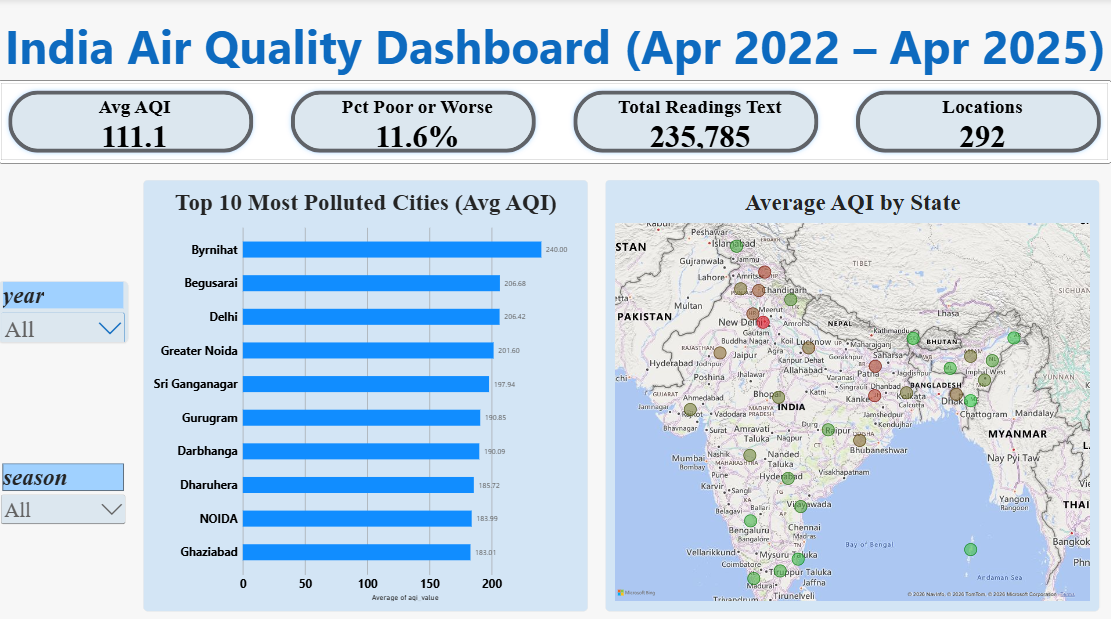

The dashboard page shown, as its layout file describes it:
{"tool":"powerbi","page":{"name":"Overview","canvas":[1920,1080],"ordinal":0},"visuals":[{"type":"cardVisual","fields":{"Data":["aqi.Avg AQI","aqi.Pct Poor or Worse","aqi.Total Readings Text","aqi.Locations"]},"box":[0,143.2,1920,143.2],"z":0},{"type":"slicer","fields":{"Values":["aqi.year"]},"box":[0,487.7,224.5,104.5],"z":1000},{"type":"slicer","fields":{"Values":["aqi.season"]},"box":[0,801.3,224.5,104.5],"z":2000},{"type":"textbox","box":[0,27.1,1920.9,117.6],"z":3000},{"type":"clusteredBarChart","title":"Top 10 Most Polluted Cities (Avg AQI)","fields":{"Category":["aqi.area"],"Y":["Avg(aqi.aqi_value)"]},"box":[251.6,313.5,766.5,743.2],"z":4000},{"type":"map","title":"Average AQI by State","fields":{"Category":["aqi.state"]},"box":[1045.2,313.5,851.6,743.2],"z":4001}]}

Visuals, with their boxes in screenshot pixels (x1, y1, x2, y2), scaled from the page's 1920x1080 canvas onto the 1111x619 screenshot:
cardVisual - aqi.Avg AQI x aqi.Pct Poor or Worse: pyautogui.locateOnScreen(0, 82, 1110, 164)
slicer - aqi.year: pyautogui.locateOnScreen(0, 280, 130, 339)
slicer - aqi.season: pyautogui.locateOnScreen(0, 459, 130, 519)
textbox: pyautogui.locateOnScreen(0, 16, 1110, 83)
"Top 10 Most Polluted Cities (Avg AQI)" clusteredBarChart: pyautogui.locateOnScreen(146, 180, 589, 606)
"Average AQI by State" map: pyautogui.locateOnScreen(605, 180, 1098, 606)
